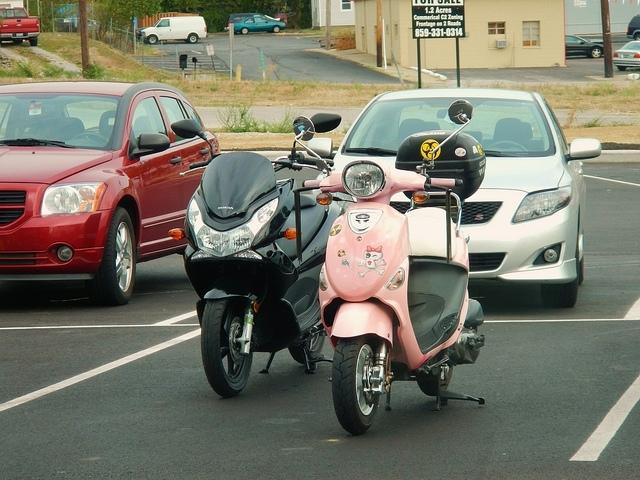non-vehicle: (289, 99, 485, 434), (166, 111, 343, 403)
